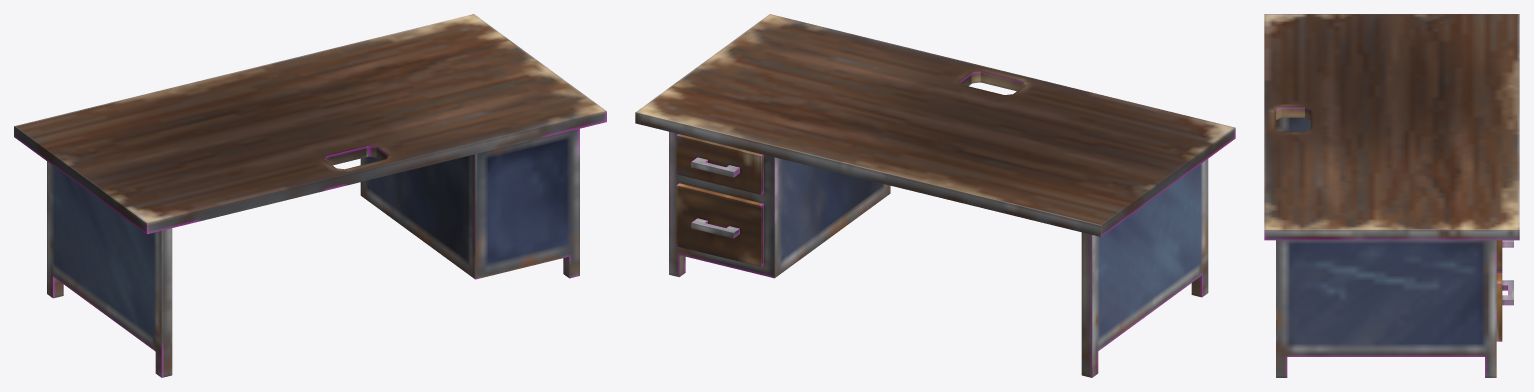
The model's file is desk.fbx.
3 renders of one model, left to right at view 1: azimuth 30°, elevation 25°; view 2: azimuth 150°, elevation 25°; view 3: azimuth 270°, elevation 25°, orthographic. The views are drawn at different scales.
Parts seen in each view (by area): view 1: desk; view 2: desk; view 3: desk.
Boxes of the visible parts, box(x1,y1,x2,y2) form: desk: box(14, 14, 606, 377); desk: box(635, 14, 1235, 377); desk: box(1264, 14, 1519, 377).
Bounding box in the file's own units: 440 × 150 × 220.
